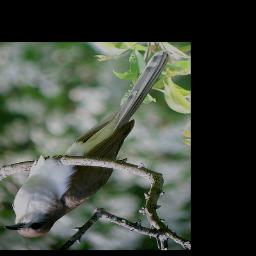Cuckoo: (5, 49, 173, 239)
